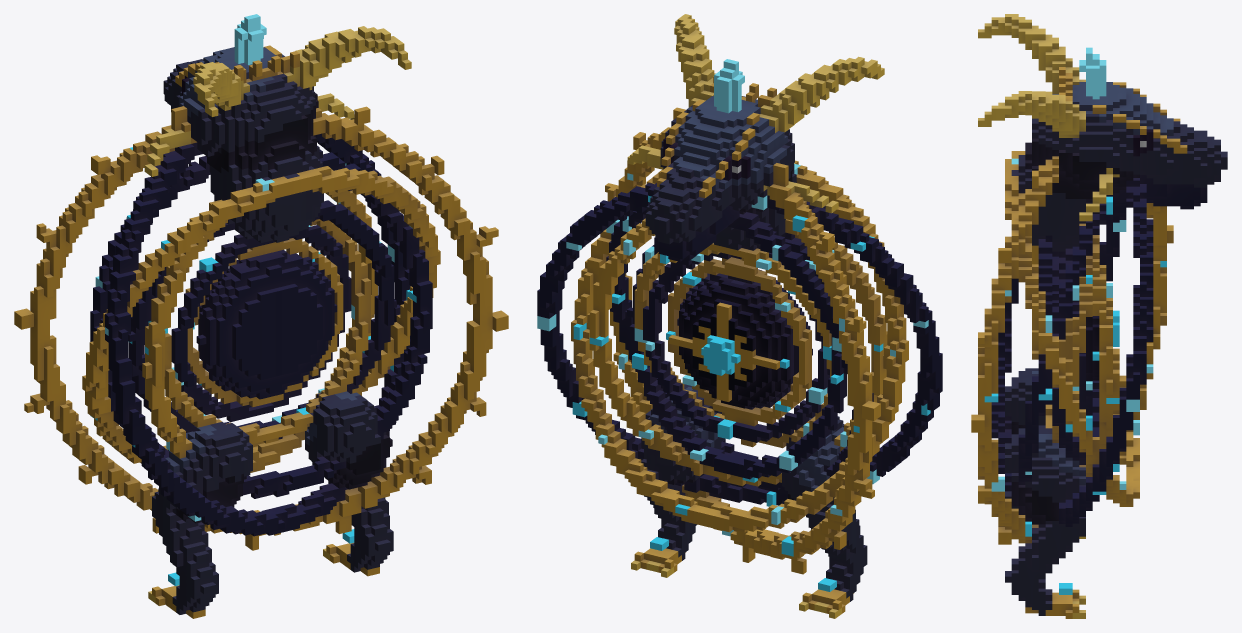
File: Ninering.glb
3 views of the same model, side by side, from view 1: azimuth 30°, elevation 25°; view 2: azimuth 150°, elevation 25°; view 3: azimuth 270°, elevation 25° (orthographic). The views are drawn at different scales.
Parts seen in each view (by area): view 1: Ring9__Tex, Head__Tex, Ring8__Tex, Body__Tex, Ring7__Tex, Ring6__Tex, Ring5__Tex, Ring4__Tex, Ring2__Tex, Ring3__Tex, LegR1__Tex, LegL1__Tex (+6 smaller); view 2: Head__Tex, Ring8__Tex, Ring9__Tex, Ring7__Tex, Body__Tex, Ring5__Tex, Ring4__Tex, Ring2__Tex, Ring1__Tex, Ring6__Tex, Ring3__Tex, LegL3__Tex (+10 smaller); view 3: Head__Tex, Ring9__Tex, Ring8__Tex, Ring7__Tex, Ring6__Tex, LegR1__Tex, Ring5__Tex, LegR2__Tex, Ring4__Tex, LegR3__Tex, Ring3__Tex, LegL1__Tex (+5 smaller).
Boxes of the visible parts, <box> form: Ring9__Tex: <box>14,106,508,550</box>; Head__Tex: <box>144,26,411,242</box>; Ring8__Tex: <box>105,133,410,536</box>; Body__Tex: <box>194,249,337,399</box>; Ring7__Tex: <box>82,166,440,463</box>; Ring6__Tex: <box>90,149,432,498</box>; Ring5__Tex: <box>142,190,377,472</box>; Ring4__Tex: <box>128,200,396,439</box>; Ring2__Tex: <box>171,225,351,422</box>; Ring3__Tex: <box>164,219,370,443</box>; LegR1__Tex: <box>305,391,392,489</box>; LegL1__Tex: <box>159,421,252,524</box>; Head__Tex: <box>627,14,884,261</box>; Ring8__Tex: <box>537,183,942,505</box>; Ring9__Tex: <box>605,107,880,574</box>; Ring7__Tex: <box>571,160,908,532</box>; Body__Tex: <box>668,269,812,409</box>; Ring5__Tex: <box>587,218,887,486</box>; Ring4__Tex: <box>627,232,847,479</box>; Ring2__Tex: <box>643,252,829,442</box>; Ring1__Tex: <box>668,257,811,426</box>; Ring6__Tex: <box>606,210,873,490</box>; Ring3__Tex: <box>634,243,831,448</box>; LegL3__Tex: <box>799,545,867,618</box>; Head__Tex: <box>978,14,1227,251</box>; Ring9__Tex: <box>971,156,1173,544</box>; Ring8__Tex: <box>991,178,1153,526</box>; Ring7__Tex: <box>1005,151,1139,506</box>; Ring6__Tex: <box>1018,200,1126,484</box>; LegR1__Tex: <box>1005,425,1085,524</box>; Ring5__Tex: <box>1032,223,1119,476</box>; LegR2__Tex: <box>1011,517,1085,585</box>; Ring4__Tex: <box>1038,235,1099,464</box>; LegR3__Tex: <box>1005,570,1085,618</box>; Ring3__Tex: <box>1045,235,1099,442</box>; LegL1__Tex: <box>1005,368,1045,434</box>.
Bounding box in the file's own units: 6.2 × 8.5 × 3.8.
